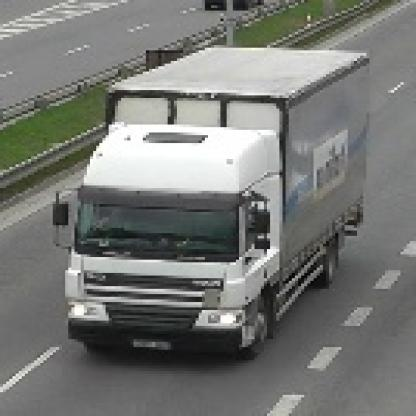truck: (48, 46, 371, 353)
